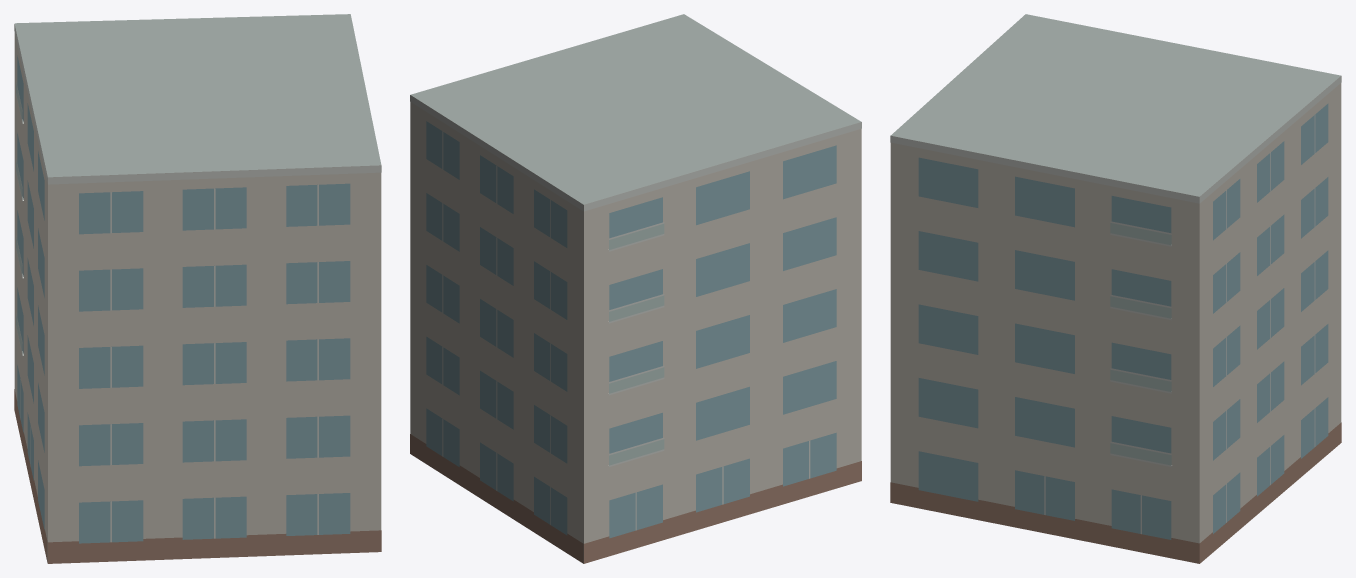
The model's file is survey-upis-33021362.glb.
The picture shows the model from 3 angles, left to right: view 1: azimuth 30°, elevation 25°; view 2: azimuth 150°, elevation 25°; view 3: azimuth 270°, elevation 25°; orthographic projection. The views are drawn at different scales.
Visible parts, largest first — view 1: survey-upis-33021362.tmp; view 2: survey-upis-33021362.tmp; view 3: survey-upis-33021362.tmp.
Boxes of the visible parts, x1,y1,x2,y2 form: survey-upis-33021362.tmp: (14,14,381,563); survey-upis-33021362.tmp: (410,14,861,563); survey-upis-33021362.tmp: (890,14,1341,563).
Bounding box in the file's own units: 13.89 × 13 × 14.48.
